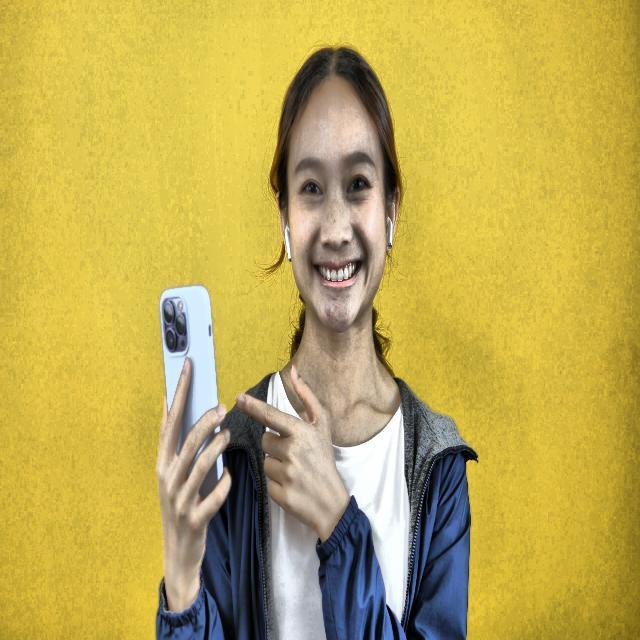Phone: (160, 284, 224, 501)
